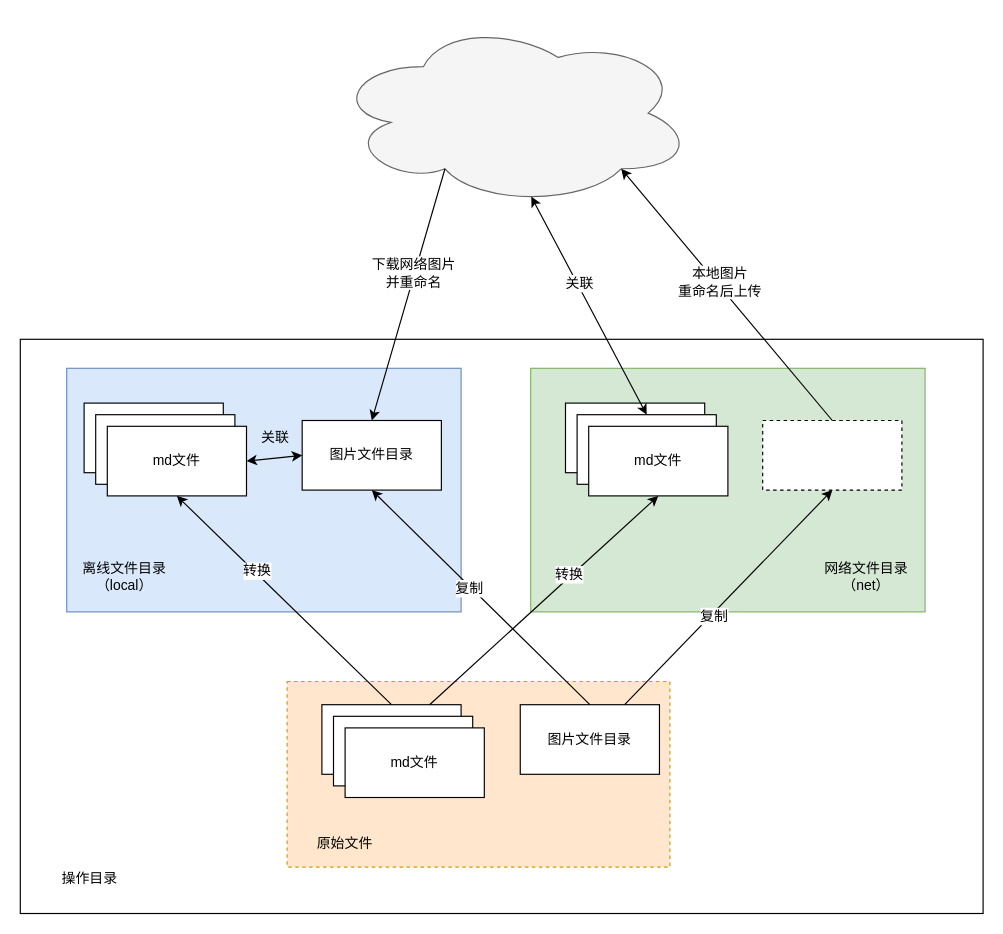
The diagram is 1003 pixels wide and 934 high, and some of its shapes have lost their labels. Here are the shapes that lost their labels. From the top down, the centre of each, then its label:
At pixel 512 112: "网络图片".
At pixel 832 454: "图片文件目录 （最终会删掉）".
